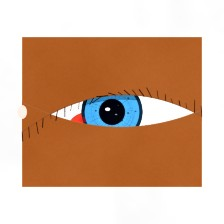hemorrhage_spot: (61, 102, 121, 150)
